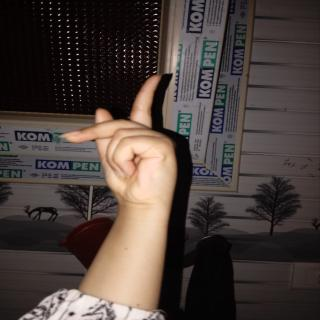DHAA: (55, 69, 192, 220)
